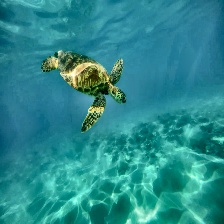seaturtle: (41, 50, 127, 133)
